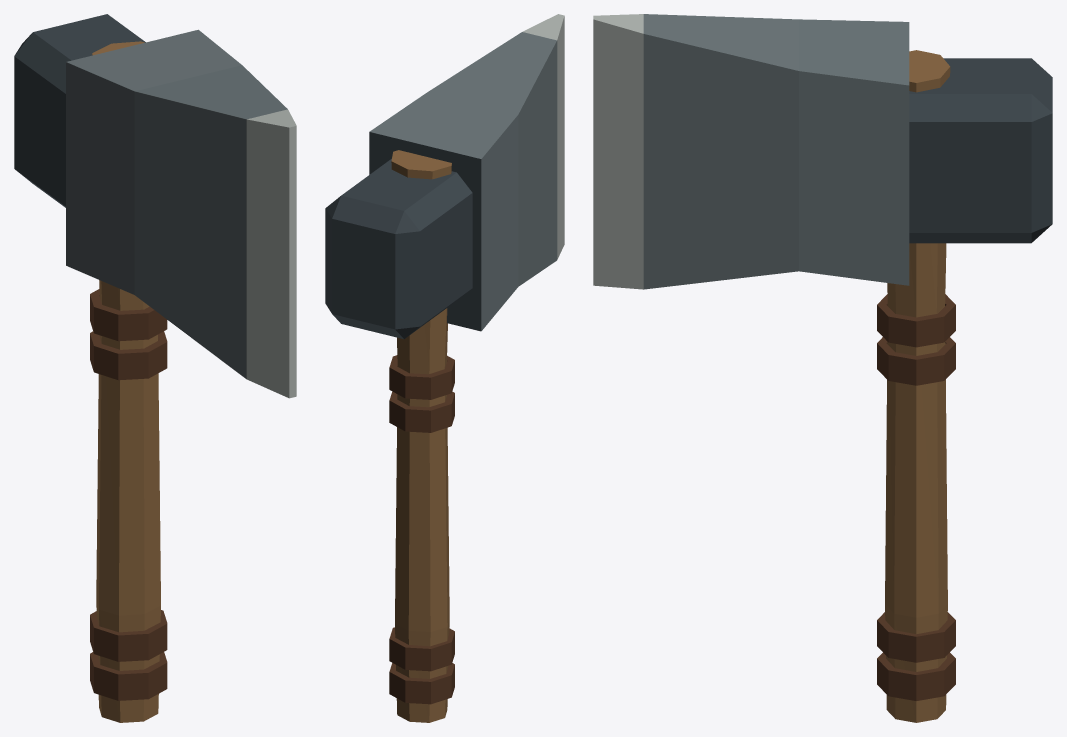
File: felling_axe.glb
3 renders of one model, left to right at view 1: azimuth 30°, elevation 25°; view 2: azimuth 150°, elevation 25°; view 3: azimuth 270°, elevation 25°, orthographic. The views are drawn at different scales.
Parts seen in each view (by area): view 1: felling_axe; view 2: felling_axe; view 3: felling_axe.
Part boxes in pixels (x1,y1,x2,y2): felling_axe: (14, 14, 296, 722); felling_axe: (325, 14, 564, 722); felling_axe: (593, 14, 1052, 722).
Bounding box in the file's own units: 0.32 × 1.62 × 0.9775.
